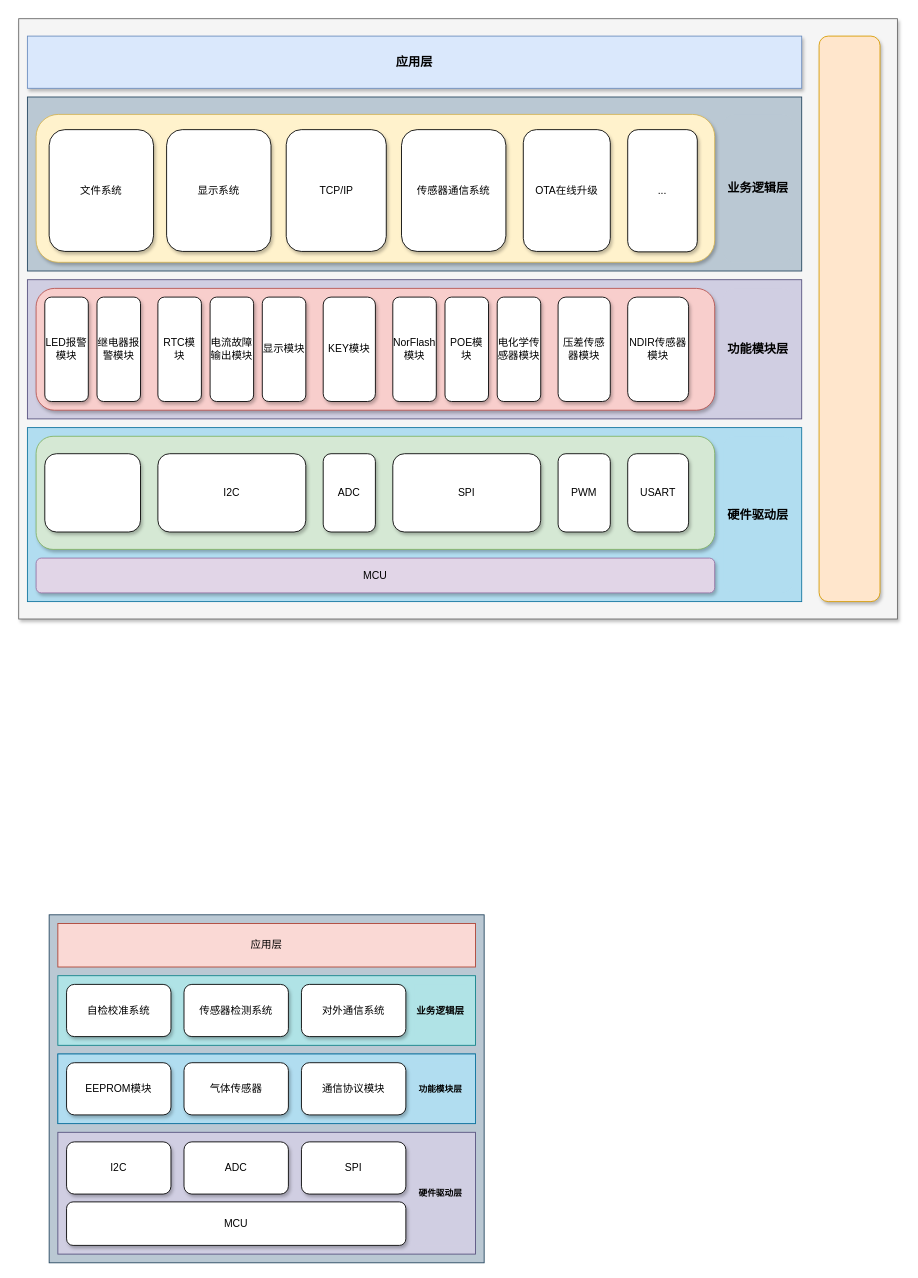
Some shapes in this 918 by 1278 pixel diagram are drawn without their labels. Here are the shapes that lost their labels. From the top down, the centre of each, then its label:
the point at 850,320: RTOS
the point at 93,493: GPIO
